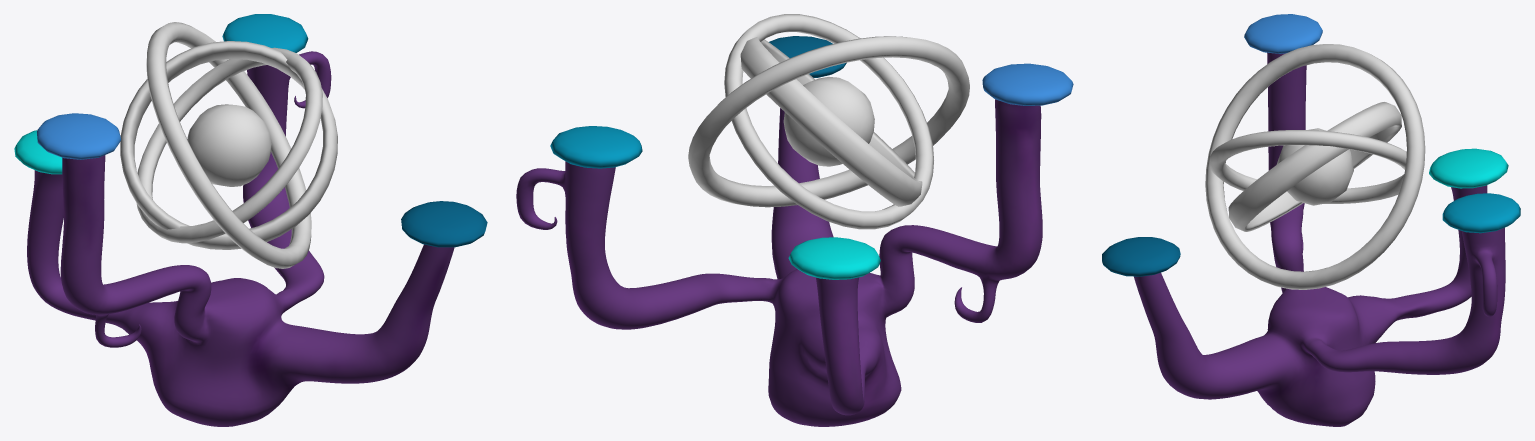
The model's file is Game_base_blockout1 1.fbx.
3 renders of one model, left to right at view 1: azimuth 30°, elevation 25°; view 2: azimuth 150°, elevation 25°; view 3: azimuth 270°, elevation 25°, orthographic. The views are drawn at different scales.
Visible parts, largest first — view 1: Cylinder, Torus, Quad Sphere 3, Torus 1, Quad Sphere; view 2: Cylinder, Torus, Quad Sphere 3, Torus 1, Quad Sphere; view 3: Cylinder, Torus, Quad Sphere 3, Torus 1, Quad Sphere.
Part boxes in pixels (left/top/right/bottom): Cylinder: left=27, top=51, right=454, bottom=426; Torus: left=120, top=22, right=337, bottom=268; Quad Sphere 3: left=14, top=14, right=487, bottom=247; Torus 1: left=125, top=25, right=337, bottom=264; Quad Sphere: left=187, top=104, right=271, bottom=186; Cylinder: left=516, top=99, right=1042, bottom=426; Torus: left=688, top=14, right=969, bottom=229; Quad Sphere 3: left=550, top=36, right=1073, bottom=279; Torus 1: left=701, top=17, right=969, bottom=224; Quad Sphere: left=783, top=77, right=874, bottom=166; Cylinder: left=1134, top=52, right=1505, bottom=426; Torus: left=1205, top=44, right=1425, bottom=289; Quad Sphere 3: left=1102, top=14, right=1520, bottom=276; Torus 1: left=1209, top=44, right=1422, bottom=287; Quad Sphere: left=1276, top=128, right=1353, bottom=205.
Size of the model in its own units: 6.42 by 5.77 by 6.32.
